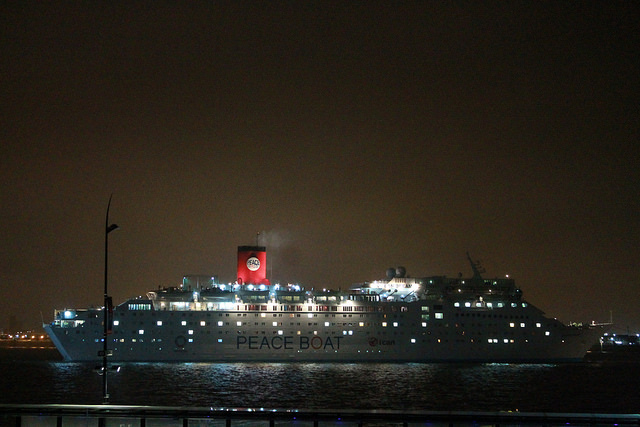cruise_ship: (44, 242, 610, 364)
